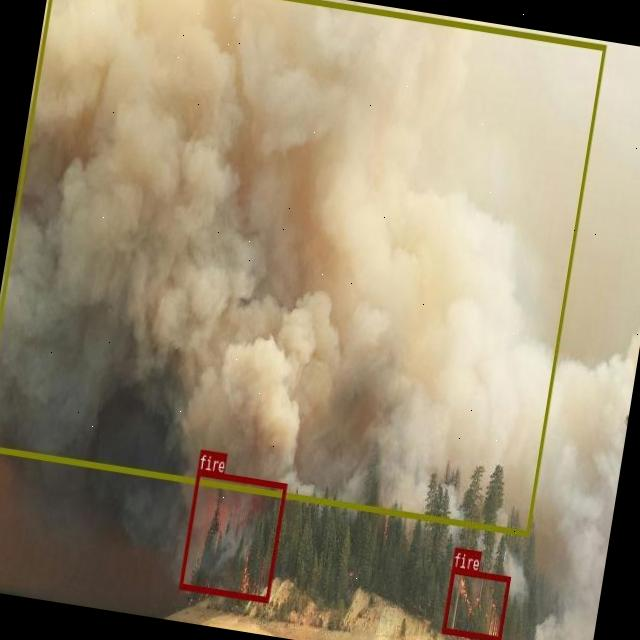fire: (178, 469, 286, 602), (442, 568, 510, 640)
smoke: (0, 0, 606, 535)
